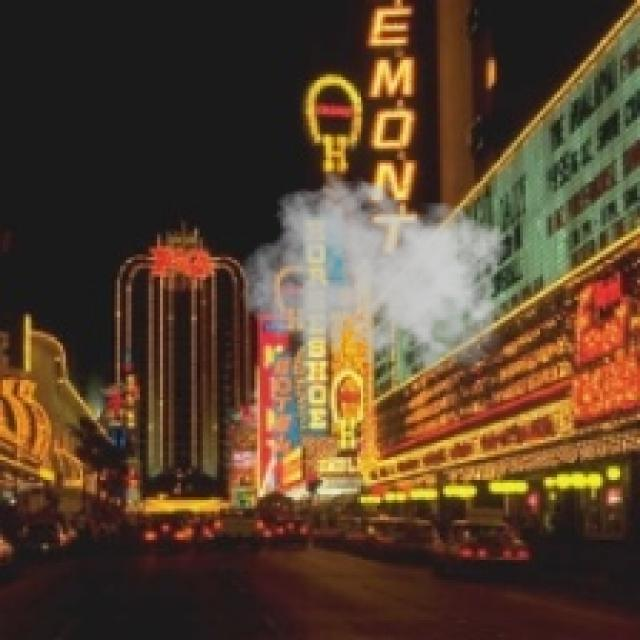smoke: (240, 171, 517, 383)
